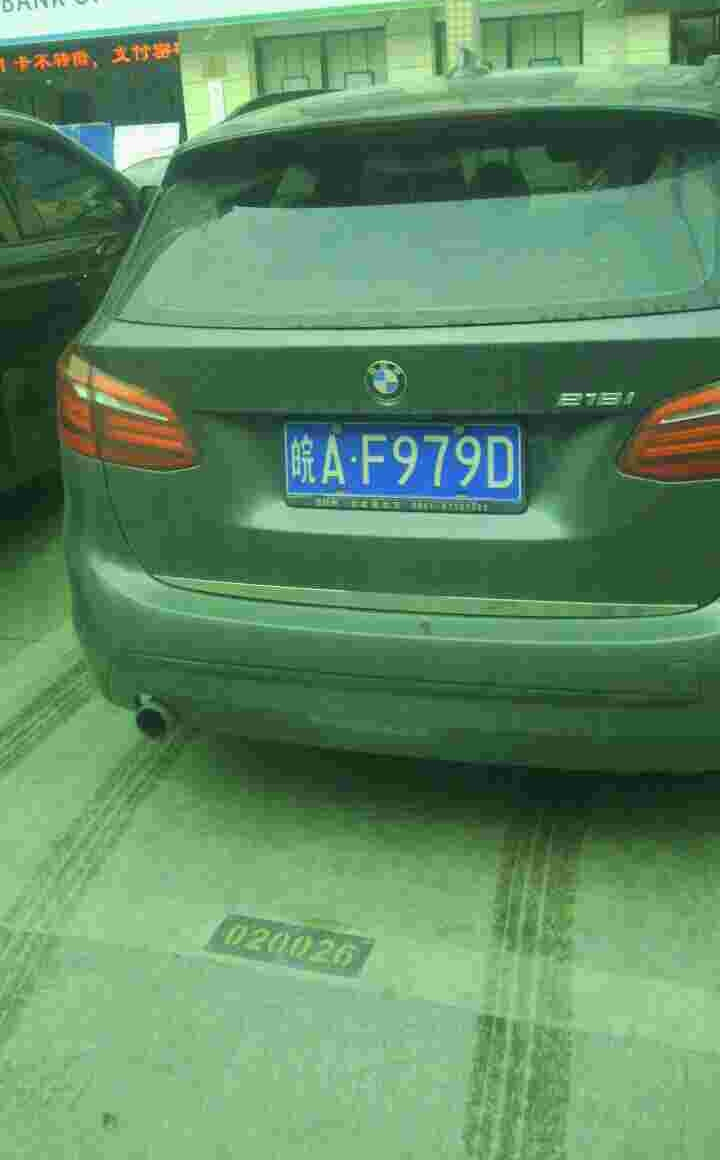license_plate: (288, 428, 530, 490)
